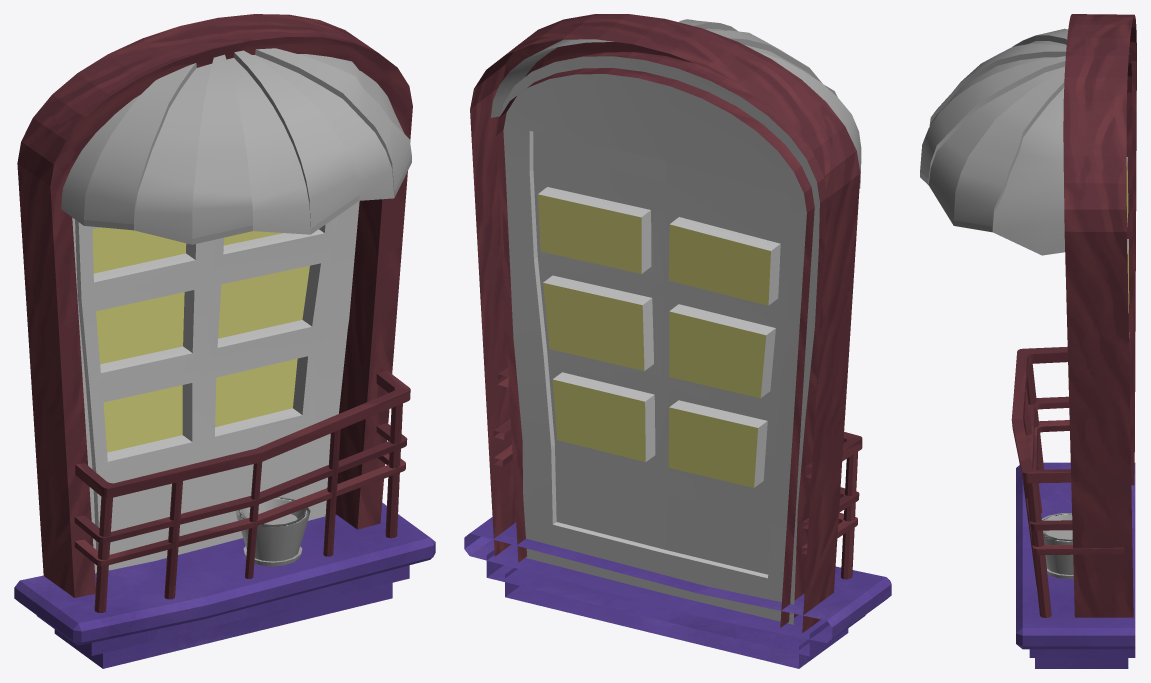
File: fenetre1.fbx
3 renders of one model, left to right at view 1: azimuth 30°, elevation 25°; view 2: azimuth 150°, elevation 25°; view 3: azimuth 270°, elevation 25°, orthographic. The views are drawn at different scales.
Visible parts, largest first — view 1: fond_fenêtre_1, cadre_fenêtre_1, parasol, balcon_fenêtre_1, garde_corps_fenêtre_1, pot; view 2: fond_fenêtre_1, cadre_fenêtre_1, balcon_fenêtre_1, parasol, garde_corps_fenêtre_1; view 3: cadre_fenêtre_1, parasol, balcon_fenêtre_1, garde_corps_fenêtre_1, pot.
Boxes of the visible parts, x1=… form: fond_fenêtre_1: x1=72, y1=201, x2=359, y2=573; cadre_fenêtre_1: x1=17, y1=14, x2=412, y2=597; parasol: x1=61, y1=48, x2=411, y2=244; balcon_fenêtre_1: x1=14, y1=503, x2=435, y2=668; garde_corps_fenêtre_1: x1=74, y1=370, x2=410, y2=612; pot: x1=235, y1=497, x2=310, y2=566; fond_fenêtre_1: x1=501, y1=56, x2=819, y2=624; cadre_fenêtre_1: x1=470, y1=14, x2=860, y2=632; balcon_fenêtre_1: x1=464, y1=517, x2=891, y2=668; parasol: x1=491, y1=19, x2=861, y2=188; garde_corps_fenêtre_1: x1=493, y1=367, x2=862, y2=579; cadre_fenêtre_1: x1=1063, y1=14, x2=1136, y2=617; parasol: x1=920, y1=28, x2=1068, y2=255; balcon_fenêtre_1: x1=1016, y1=462, x2=1135, y2=668; garde_corps_fenêtre_1: x1=1011, y1=346, x2=1124, y2=617; pot: x1=1041, y1=513, x2=1073, y2=579.
Size of the model in its own units: 4.64 by 7.06 by 2.5.
